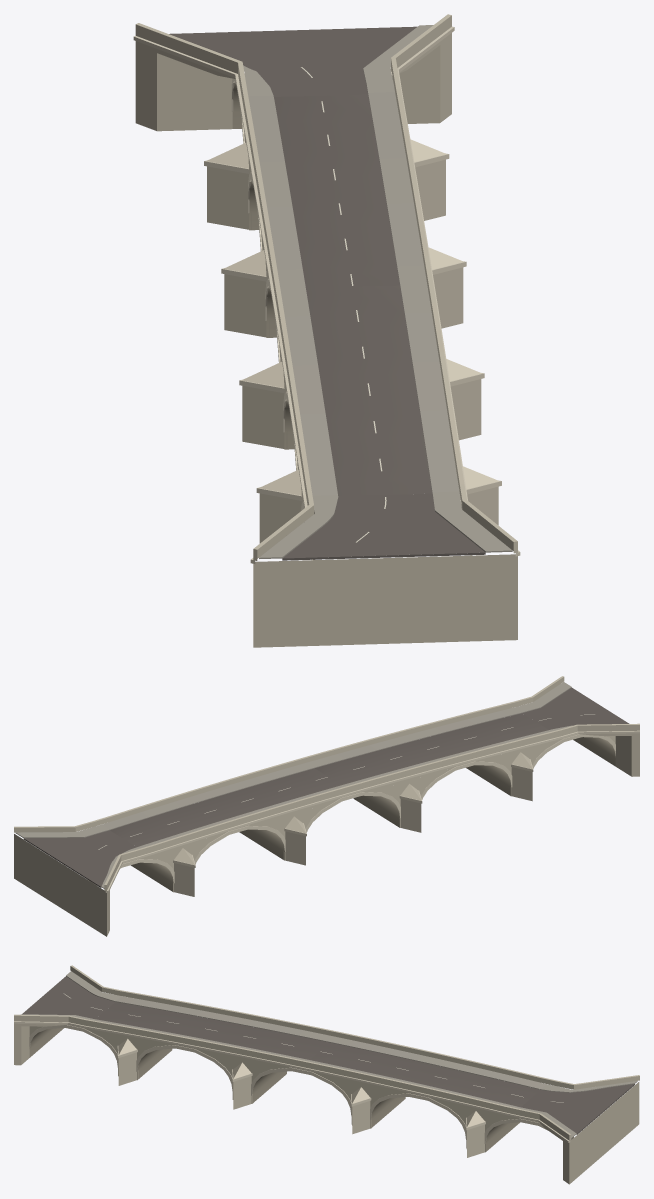
The model's file is pont-royal-far.glb.
The picture shows the model from 3 angles, top to bottom: view 1: azimuth 30°, elevation 25°; view 2: azimuth 150°, elevation 25°; view 3: azimuth 270°, elevation 25°; orthographic projection. The views are drawn at different scales.
Parts seen in each view (by area): view 1: pont-royal-0-setts, pont-royal-0-masonry, pont-royal-0-walk, pont-royal-0-stone, pont-royal-0-trim, pont-royal-0-ring, pont-royal-0-glow; view 2: pont-royal-0-setts, pont-royal-0-masonry, pont-royal-0-stone, pont-royal-0-walk, pont-royal-0-glow, pont-royal-0-ring, pont-royal-0-trim; view 3: pont-royal-0-setts, pont-royal-0-masonry, pont-royal-0-stone, pont-royal-0-walk, pont-royal-0-ring, pont-royal-0-glow, pont-royal-0-trim.
Boxes of the visible parts, x1,y1,x2,y2 form: pont-royal-0-setts: (169,26,485,560); pont-royal-0-masonry: (135,33,517,647); pont-royal-0-walk: (243,25,512,558); pont-royal-0-stone: (135,14,517,560); pont-royal-0-trim: (133,26,520,563); pont-royal-0-ring: (204,71,501,560); pont-royal-0-glow: (232,76,392,513); pont-royal-0-setts: (23,687,629,887); pont-royal-0-masonry: (14,733,639,936); pont-royal-0-stone: (14,676,639,890); pont-royal-0-walk: (16,682,572,888); pont-royal-0-glow: (131,737,615,891); pont-royal-0-ring: (95,734,615,885); pont-royal-0-trim: (105,730,639,892); pont-royal-0-setts: (22,976,634,1134); pont-royal-0-masonry: (14,1023,639,1184); pont-royal-0-stone: (14,965,639,1140); pont-royal-0-walk: (21,971,637,1138); pont-royal-0-ring: (29,1025,547,1143); pont-royal-0-glow: (29,1028,519,1151); pont-royal-0-trim: (14,1021,570,1142).
Bounding box in the file's own units: 85.15 × 12.37 × 132.
